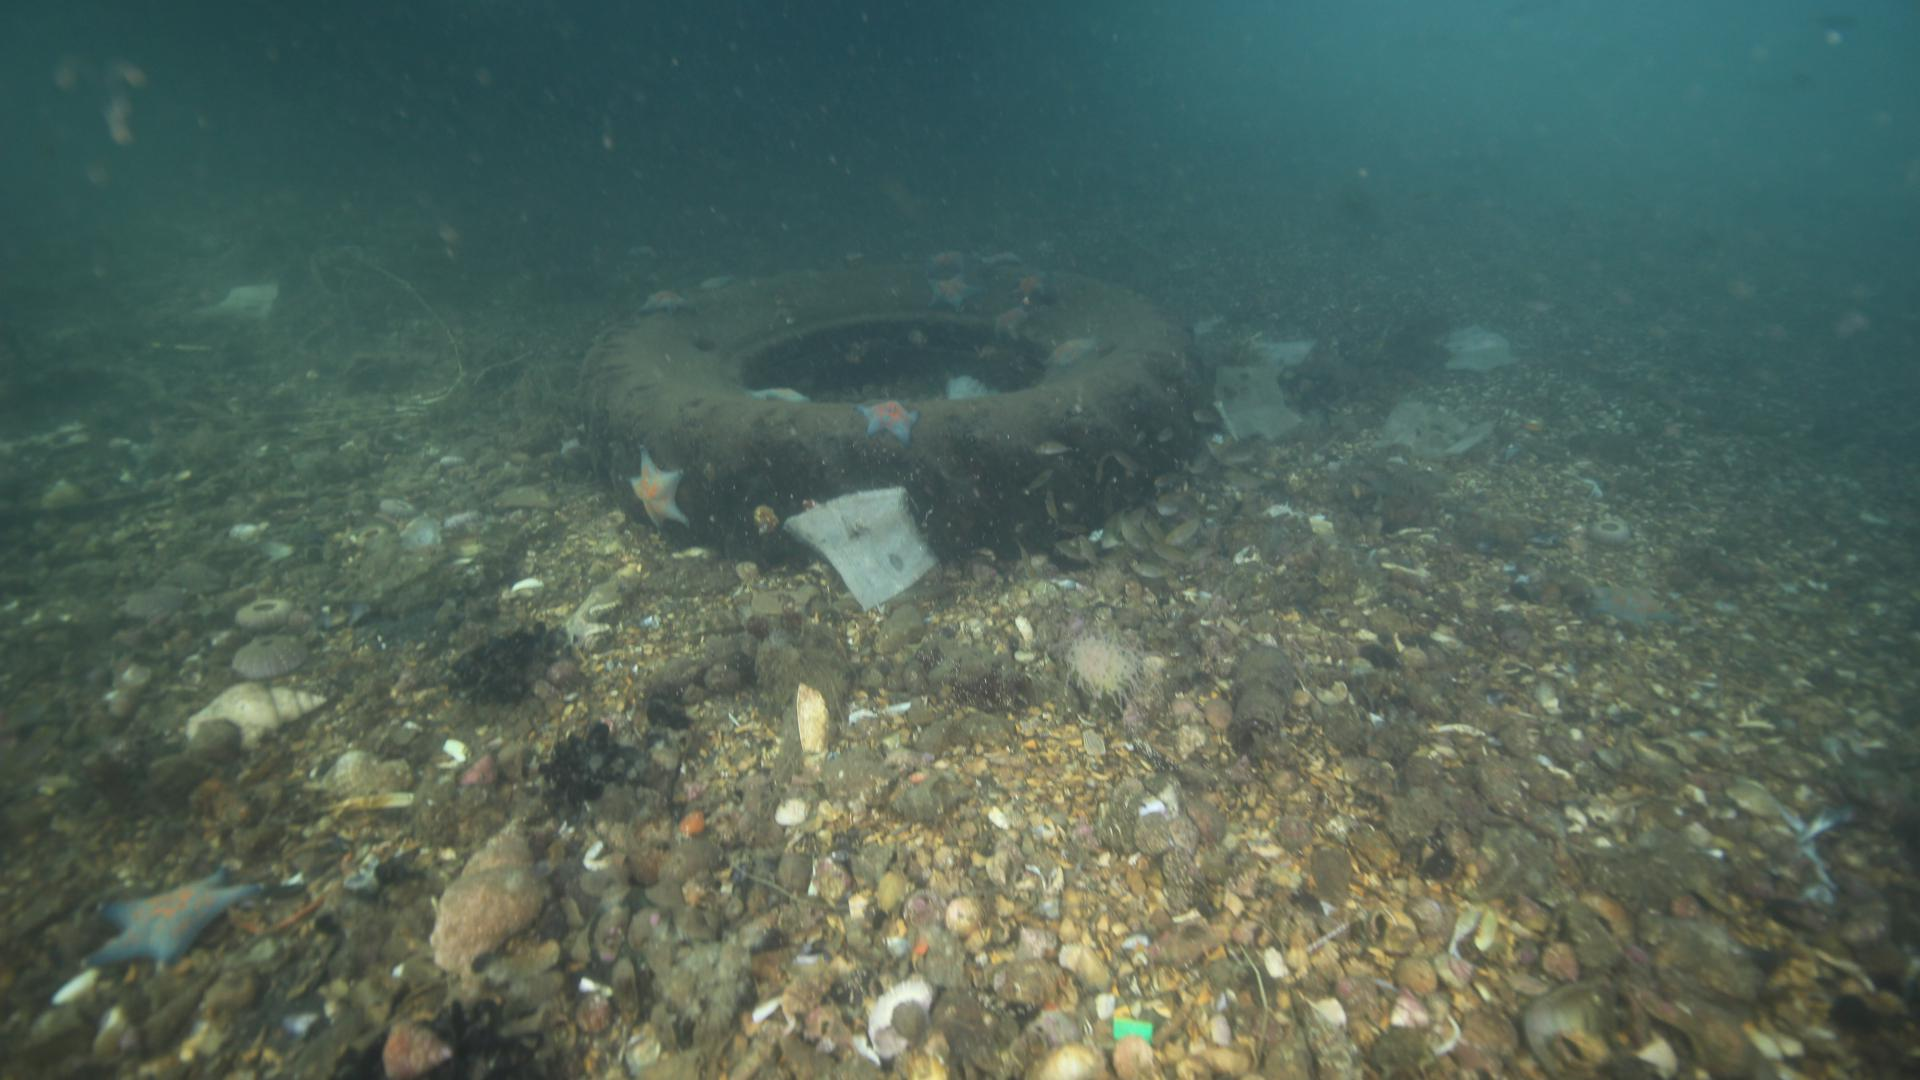tire: (574, 258, 1203, 559)
